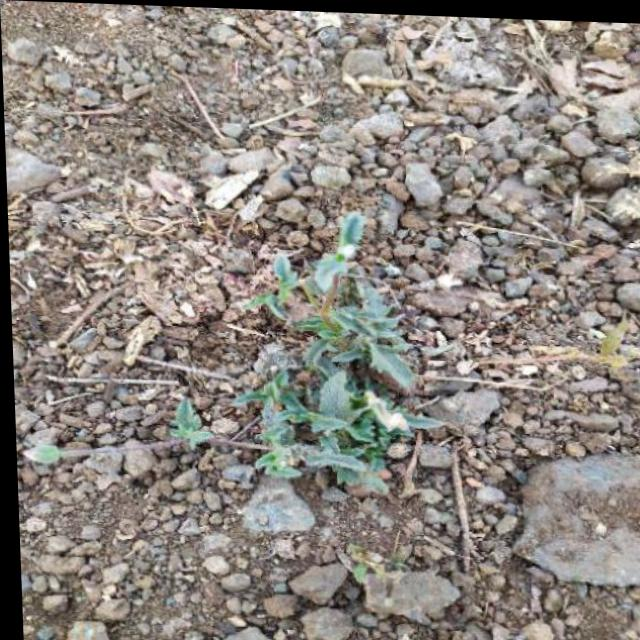weed: (198, 242, 437, 520)
